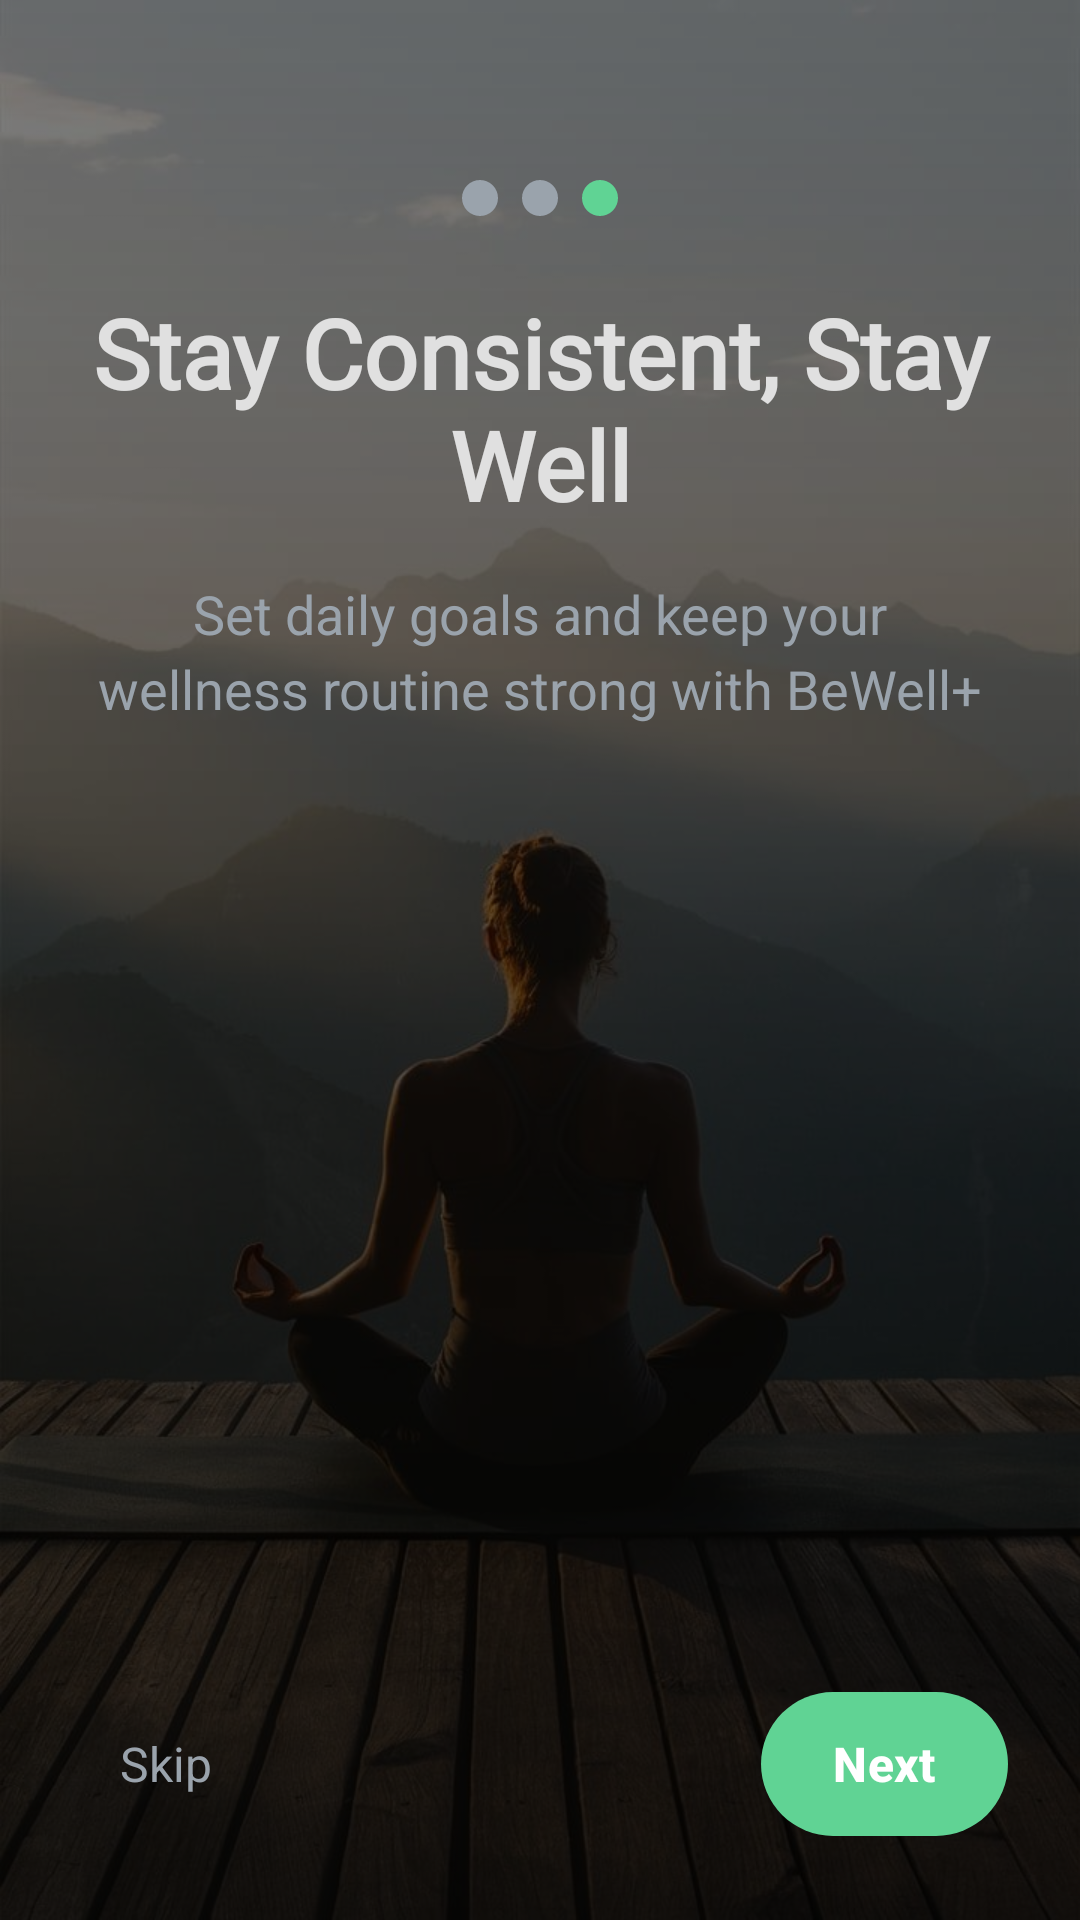

Icon bounding boxes for this 1080 × 1920 phone screenshot, format (x1, y1, x2, y2):
page indicator: (462, 180, 498, 216), (522, 180, 558, 216), (582, 180, 618, 216)
